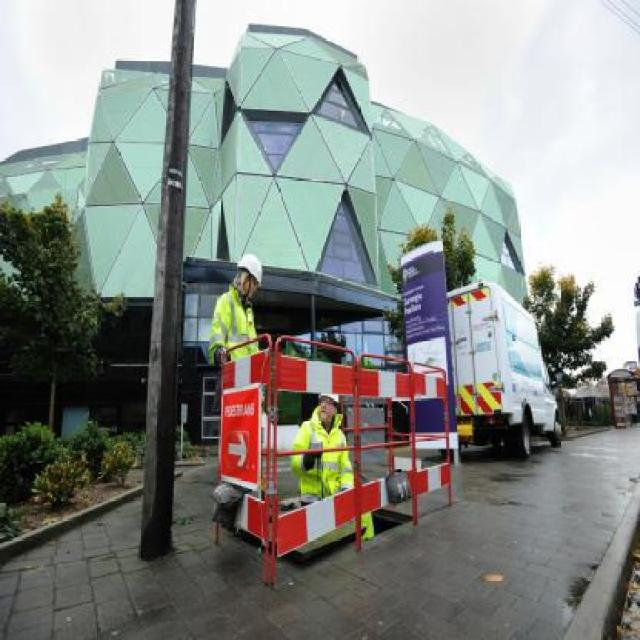Person: (290, 394, 376, 538), (210, 251, 261, 367)
